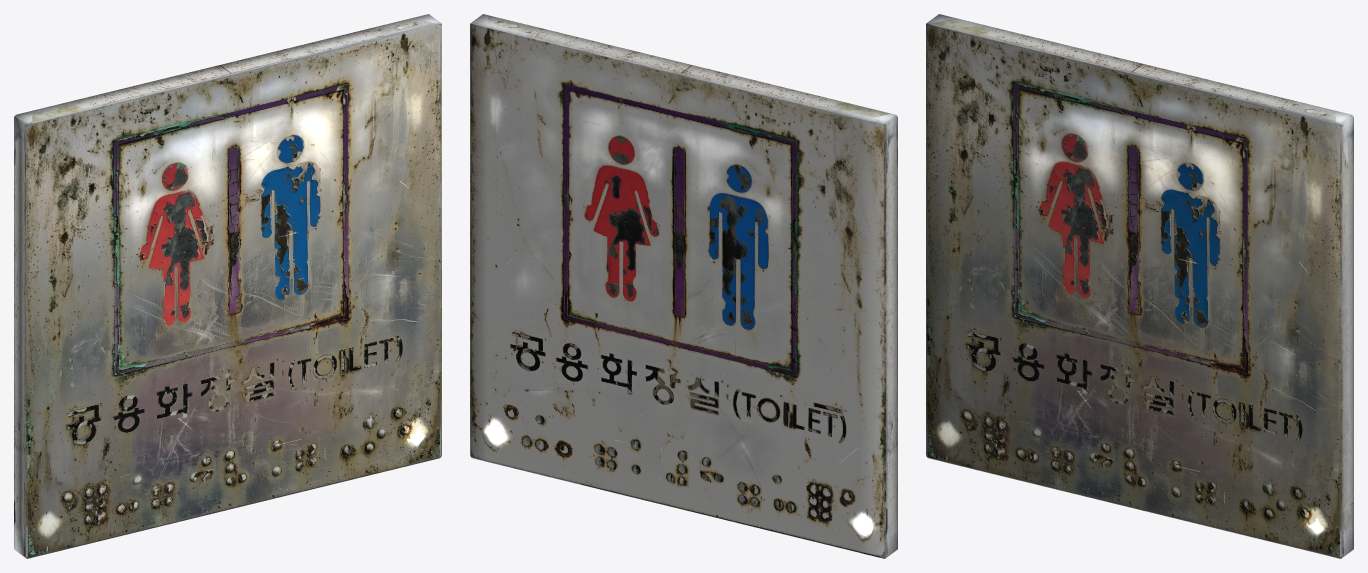
Rendered from Meshy_AI_Public_Restroom_Sign_0519030259_texture.fbx.
The picture shows the model from 3 angles, left to right: view 1: azimuth 30°, elevation 25°; view 2: azimuth 150°, elevation 25°; view 3: azimuth 330°, elevation 25°; orthographic projection.
Visible parts, largest first — view 1: Mesh_0; view 2: Mesh_0; view 3: Mesh_0.
Boxes of the visible parts, x1,y1,x2,y2 form: Mesh_0: (14,14,441,558); Mesh_0: (470,14,897,558); Mesh_0: (926,14,1353,558).
Size of the model in its own units: 191 by 191 by 9.78.
1 material, 1 textured.
